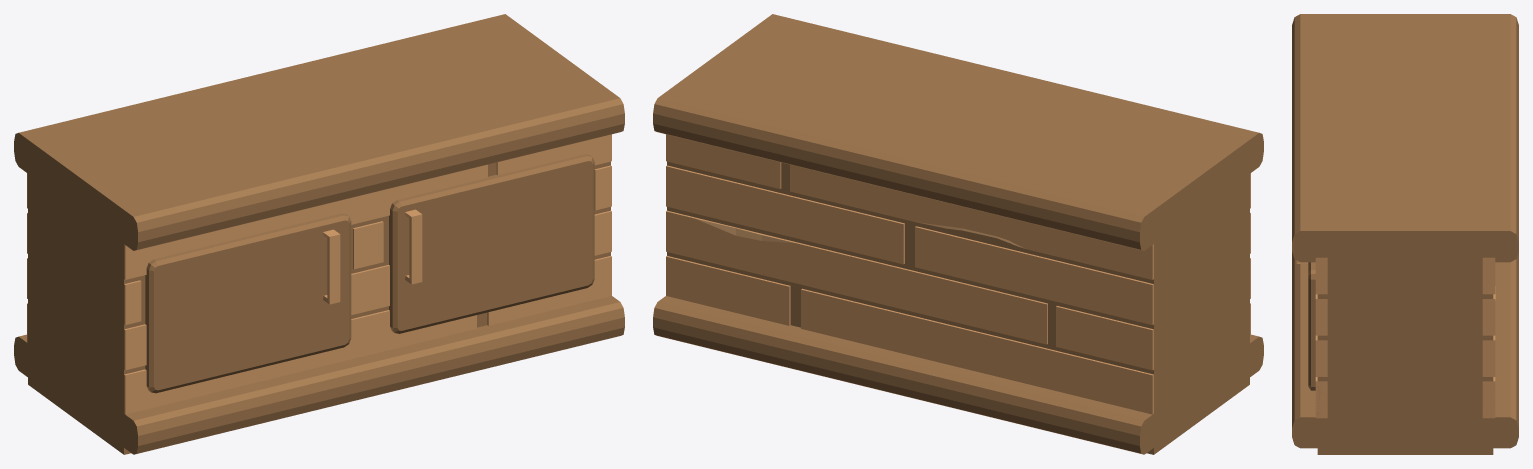
The model's file is Counter_Doors.fbx.
The picture shows the model from 3 angles, left to right: view 1: azimuth 30°, elevation 25°; view 2: azimuth 150°, elevation 25°; view 3: azimuth 270°, elevation 25°; orthographic projection. The views are drawn at different scales.
Parts seen in each view (by area): view 1: Environment_Counter_Doors; view 2: Environment_Counter_Doors; view 3: Environment_Counter_Doors.
Part boxes in pixels (left/top/right/bottom): Environment_Counter_Doors: left=14, top=14, right=624, bottom=454; Environment_Counter_Doors: left=653, top=14, right=1263, bottom=454; Environment_Counter_Doors: left=1292, top=14, right=1518, bottom=454.
Size of the model in its own units: 400 by 192 by 177.
